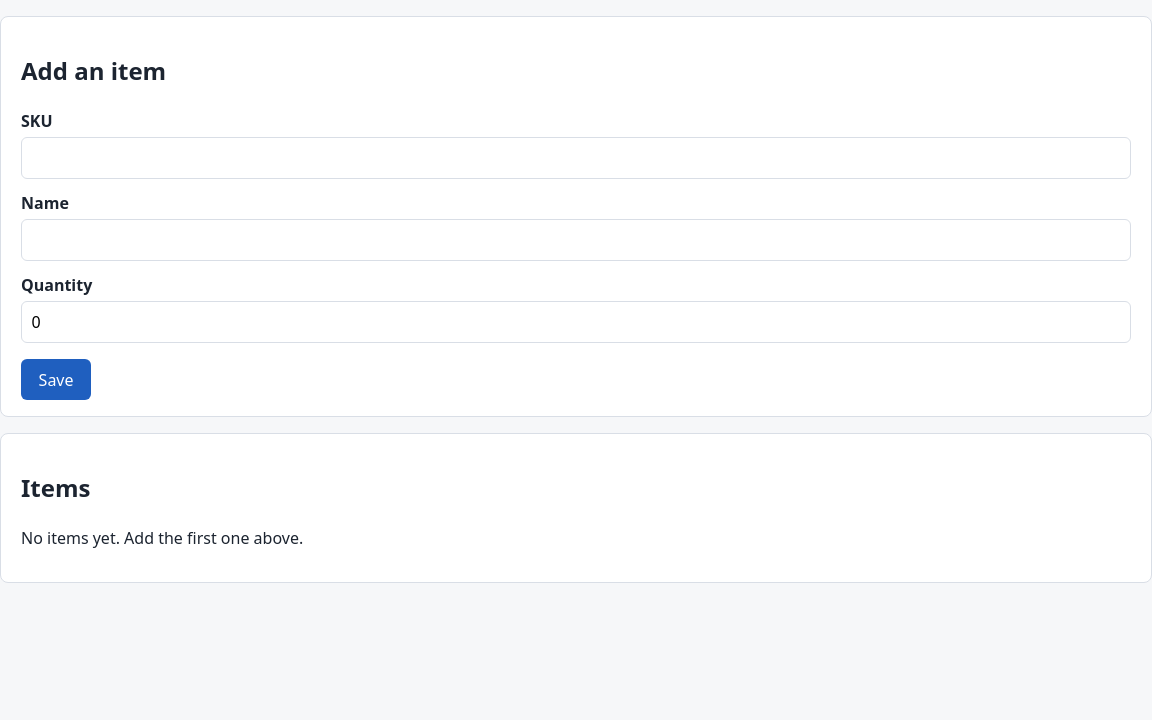
ItemsPage › saves, confirms, and reloads the list from the server
expect the text "No items yet. Add the first one above." is shown: met, box [21, 527, 303, 549]
Step 1. Type "BOLT-1" into the field labelled "SKU" → (576, 158), box [21, 137, 1131, 179]
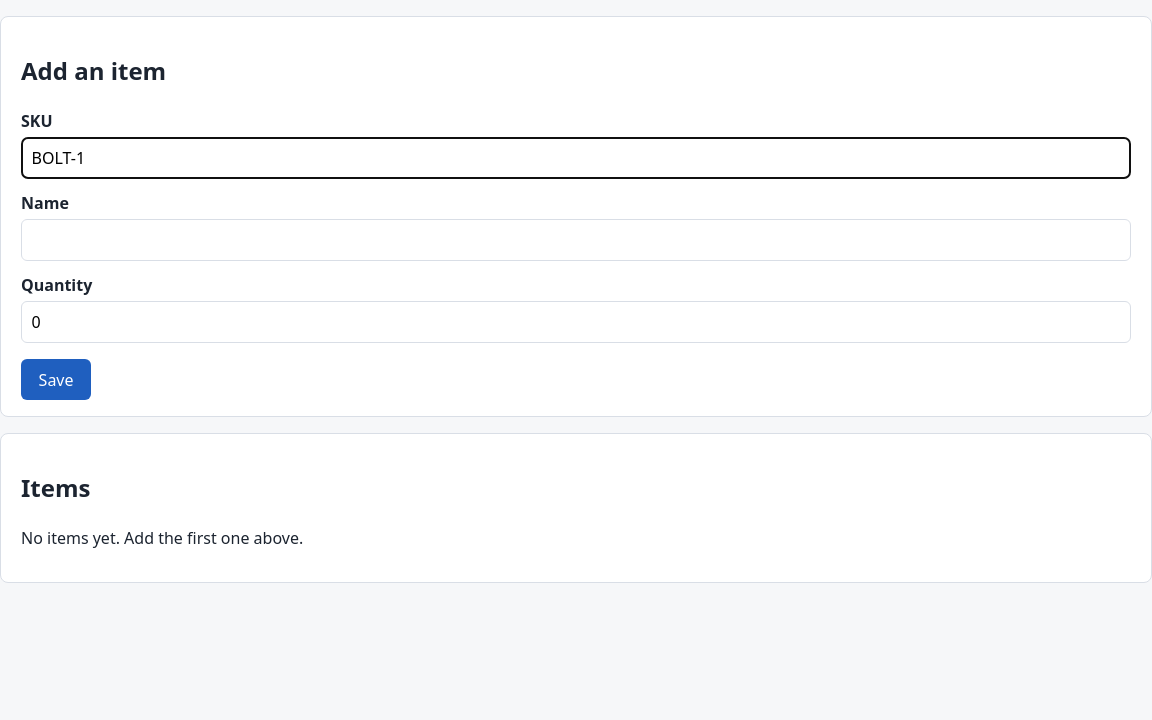
Step 2. Type "Hex bolt" into the field labelled "Name" → (576, 240), box [21, 219, 1131, 261]
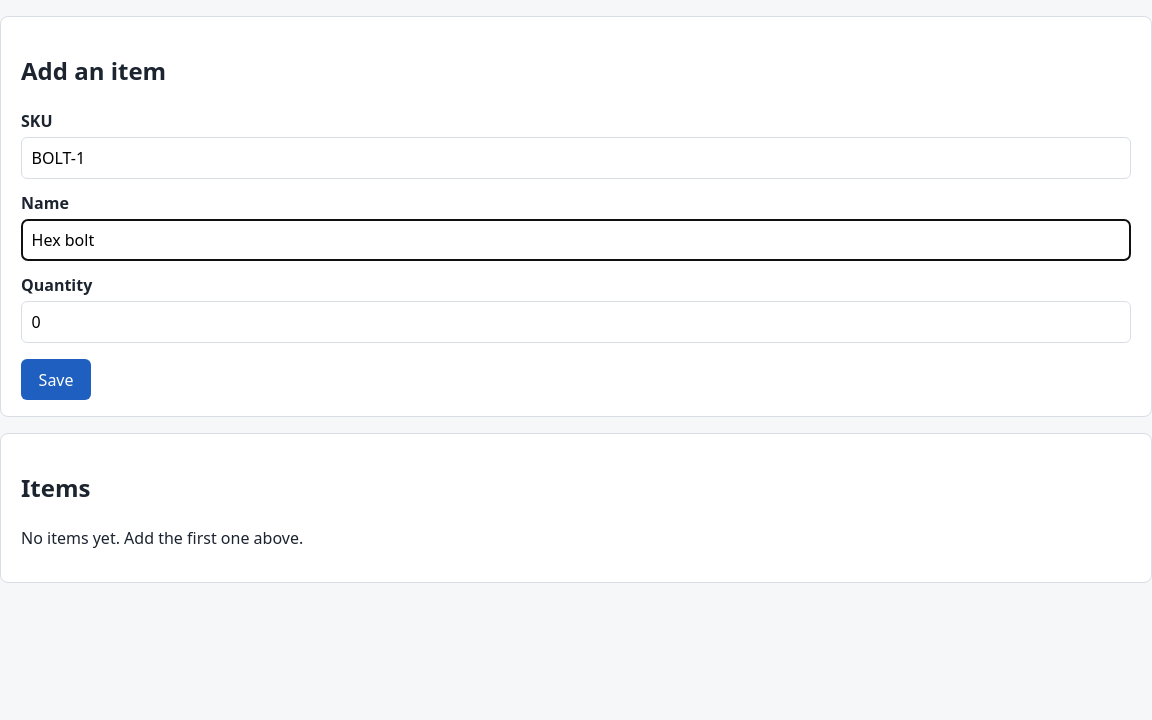
Step 3. Click the button "Save" → (56, 380), box [21, 359, 91, 400]
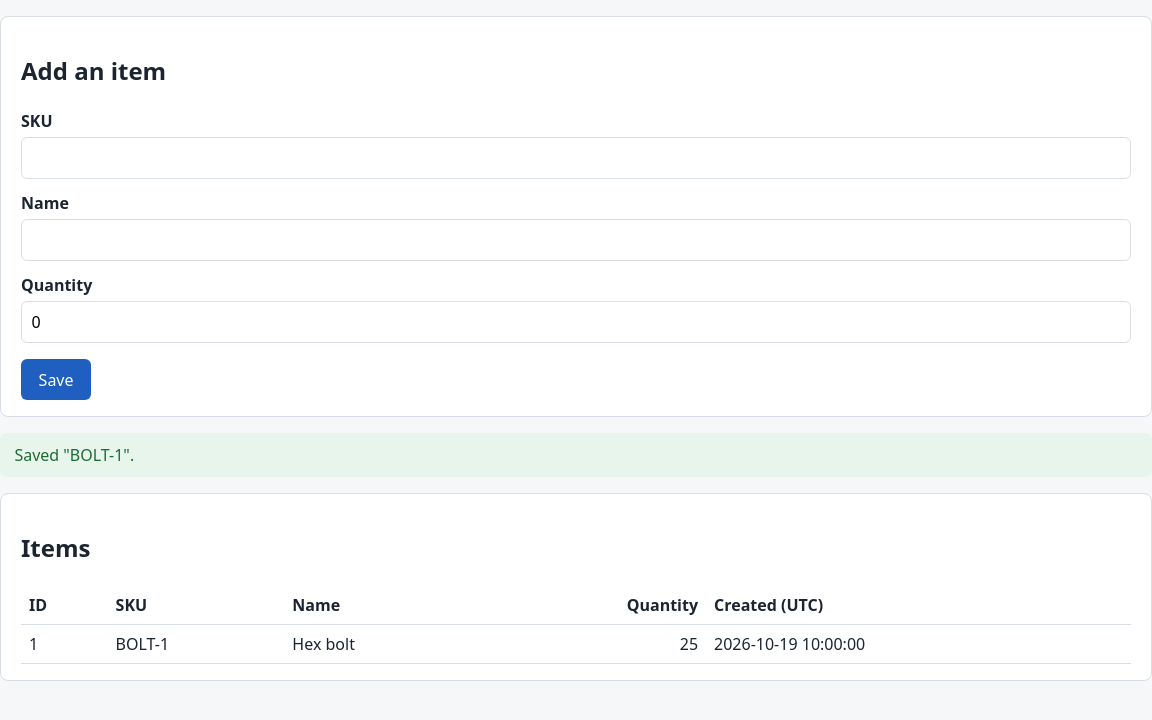
expect the text "Saved \"BOLT-1\"." is shown: met, box [0, 433, 1151, 477]
expect the cell "BOLT-1" is shown: met, box [108, 624, 284, 664]
